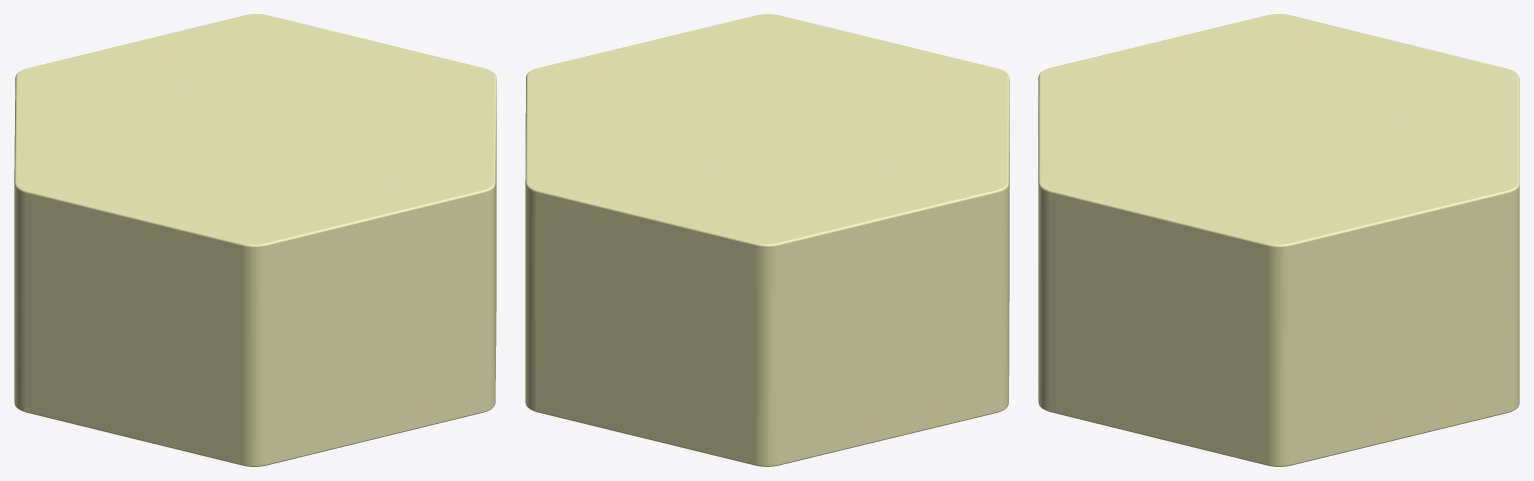
3 views of the same model, side by side, from view 1: azimuth 30°, elevation 25°; view 2: azimuth 150°, elevation 25°; view 3: azimuth 270°, elevation 25° (orthographic).
Parts seen in each view (by area): view 1: dbb0b497-5337-44ae-b9cd-30f90f98fd4a; view 2: dbb0b497-5337-44ae-b9cd-30f90f98fd4a; view 3: dbb0b497-5337-44ae-b9cd-30f90f98fd4a.
Boxes of the visible parts, left/top/right/bottom form: dbb0b497-5337-44ae-b9cd-30f90f98fd4a: left=14, top=14, right=496, bottom=466; dbb0b497-5337-44ae-b9cd-30f90f98fd4a: left=525, top=14, right=1009, bottom=466; dbb0b497-5337-44ae-b9cd-30f90f98fd4a: left=1038, top=14, right=1519, bottom=466.
Bounding box in the file's own units: 0.4973 × 0.2311 × 0.4354.
Materials: 2 (2 with a texture image).
